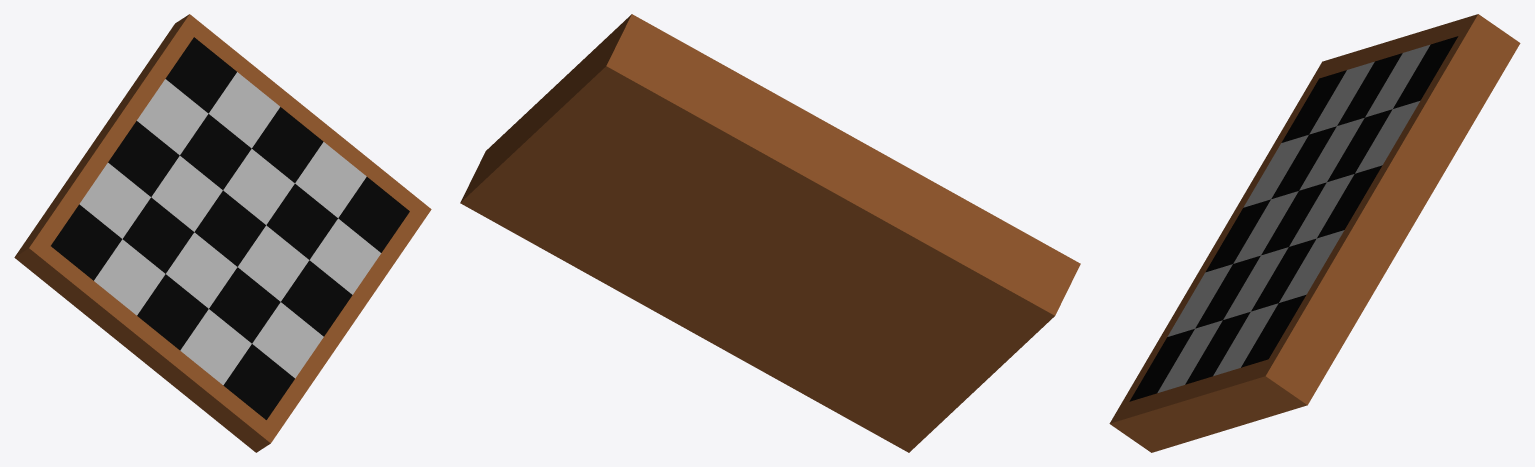
The model's file is Chess.glb.
3 renders of one model, left to right at view 1: azimuth 30°, elevation 25°; view 2: azimuth 150°, elevation 25°; view 3: azimuth 270°, elevation 25°, orthographic. The views are drawn at different scales.
Parts seen in each view (by area): view 1: Xadrez; view 2: Xadrez; view 3: Xadrez.
Boxes of the visible parts, bbox=[...] form: Xadrez: bbox=[14, 14, 431, 452]; Xadrez: bbox=[460, 14, 1080, 452]; Xadrez: bbox=[1109, 14, 1520, 452].
Size of the model in its own units: 1.38 by 1.17 by 0.9223.
